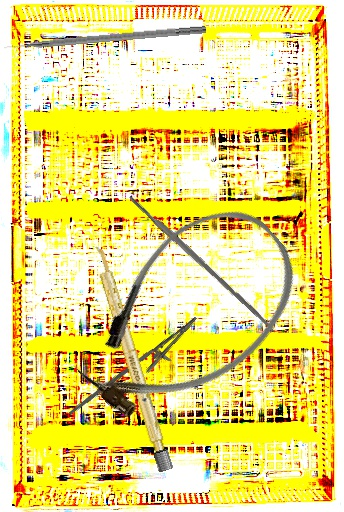Cannula: (50, 182, 325, 449)
Hook Surgical: (2, 23, 207, 51)
Needle Holder: (67, 302, 207, 438)
Scalpel Handle: (126, 191, 278, 335), (90, 244, 174, 473)
